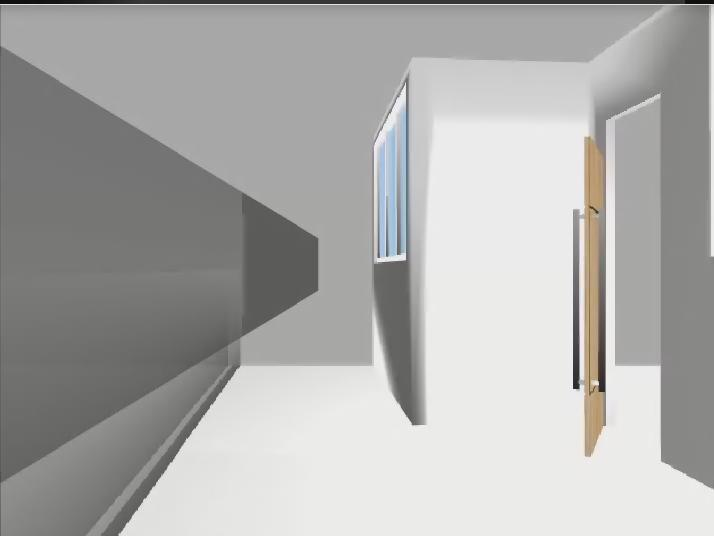door: (574, 137, 606, 457)
